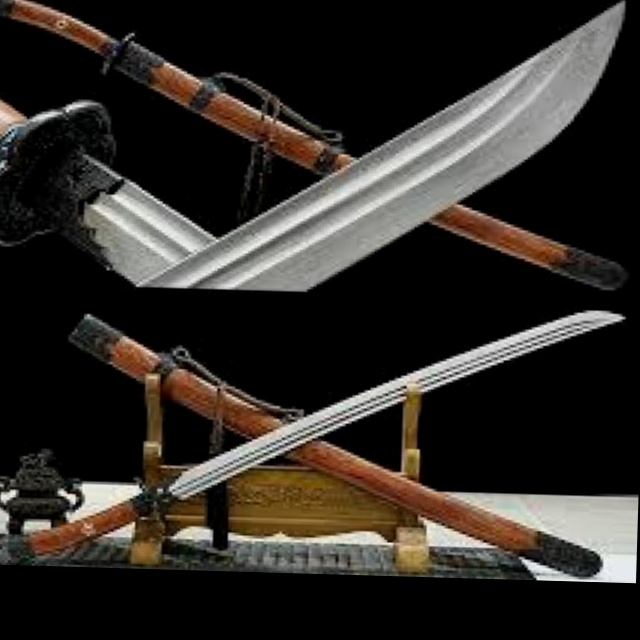Sharp-Object: (6, 294, 615, 567)
